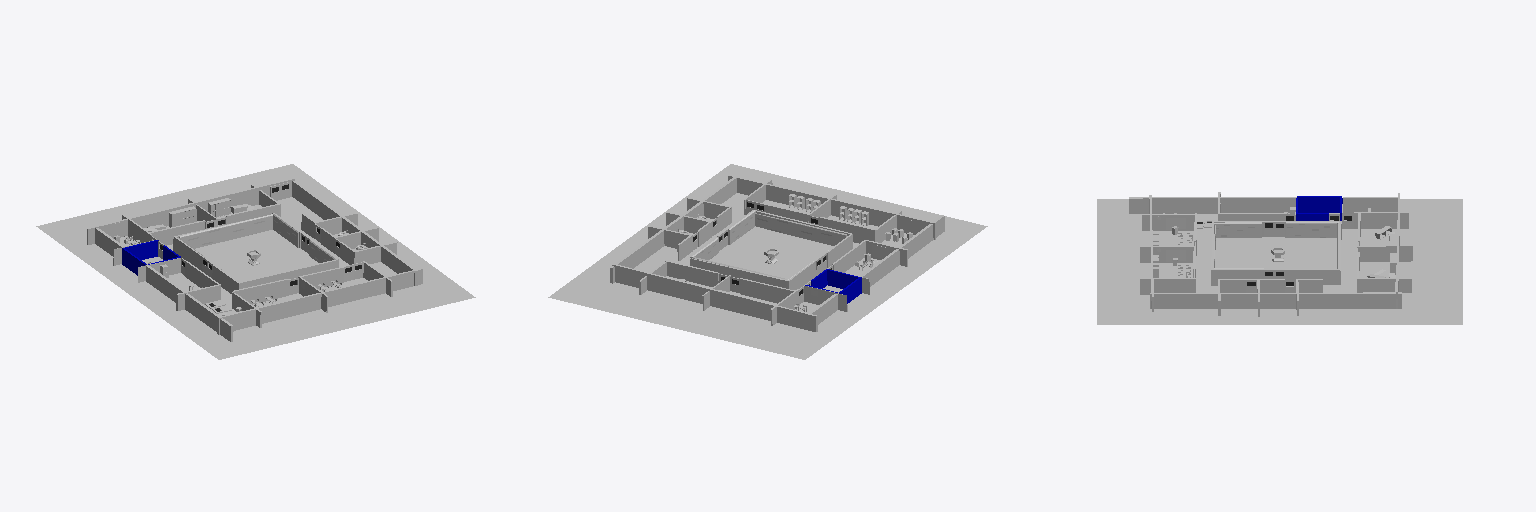
File: gamemap.obj
The picture shows the model from 3 angles: view 1: azimuth 30°, elevation 25°; view 2: azimuth 150°, elevation 25°; view 3: azimuth 270°, elevation 25°; orthographic projection.
Visible parts, largest first — view 1: floor, grass, Cube.001, Cube.003, Cube.004, Cube.025, HEDGE.006, Cube.038, Cube.017, Cube.012, Cube.040, Cube.039; view 2: floor, grass, Cube.004, Cube.001, Cube.003, Cube.025, HEDGE.005, Cube.018, Cube.041, Cube.040, Cube.038; view 3: floor, Cube.003, grass, Cube.025, Cube, Cube.008, Cube.014, HEDGE.002, Cube.007, Cube.013, HEDGE.007, Cube.023 (+5 smaller).
Boxes of the visible parts, box(x1,y1,x2,y2) form: floor: box(36, 164, 475, 359); grass: box(195, 230, 318, 281); Cube.001: box(217, 268, 422, 334); Cube.003: box(290, 178, 417, 285); Cube.004: box(87, 178, 294, 244); Cube.025: box(145, 264, 233, 341); HEDGE.006: box(179, 214, 272, 248); Cube.038: box(232, 279, 288, 304); Cube.017: box(239, 260, 338, 288); Cube.012: box(176, 284, 220, 310); Cube.040: box(149, 220, 205, 245); Cube.039: box(301, 267, 343, 288); floor: box(548, 164, 987, 359); grass: box(709, 226, 833, 279); Cube.004: box(612, 264, 817, 331); Cube.001: box(728, 175, 935, 239); Cube.003: box(610, 176, 737, 283); Cube.025: box(860, 215, 944, 286); HEDGE.005: box(755, 213, 846, 245); Cube.018: box(690, 258, 788, 288); Cube.041: box(665, 260, 719, 286); Cube.040: box(739, 278, 794, 303); Cube.038: box(819, 217, 875, 243); floor: box(1097, 199, 1462, 324); Cube.003: box(1150, 292, 1401, 308); grass: box(1215, 237, 1336, 268); Cube.025: box(1129, 197, 1296, 213); Cube: box(1343, 197, 1397, 213); Cube.008: box(1354, 212, 1408, 228); Cube.014: box(1140, 278, 1195, 294); HEDGE.002: box(1286, 222, 1338, 237); Cube.007: box(1357, 246, 1412, 261); Cube.013: box(1357, 278, 1411, 292); HEDGE.007: box(1214, 222, 1261, 237); Cube.023: box(1297, 196, 1341, 212).
Bounding box in the file's own units: 97.19 × 8.16 × 120.